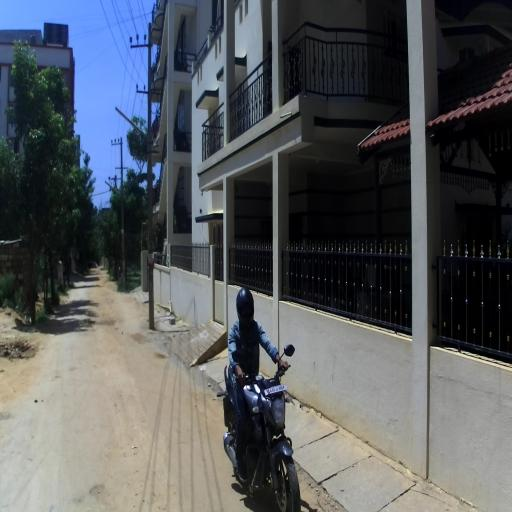street_light_0: (115, 106, 152, 156), (104, 180, 123, 207)
